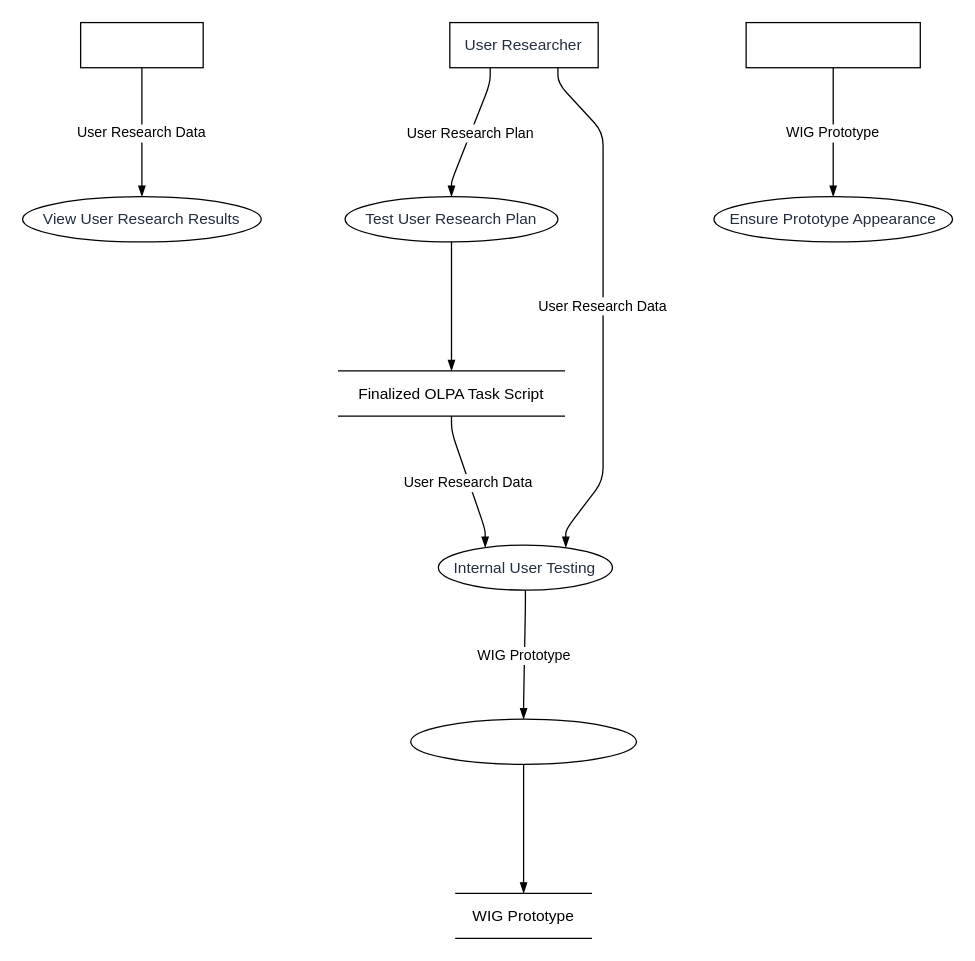
This 975x961 diagram has some shape labels left out. Each missing label, with the centre of its shape:
Finalize Second Task Script: point 522,741
Research Participant: point 832,44
Stakeholder: point 141,44
